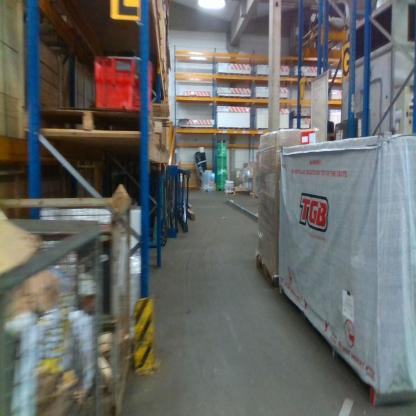pallet: (39, 105, 156, 143), (256, 252, 280, 290), (150, 102, 169, 120), (217, 187, 225, 192)
stillage: (2, 193, 134, 415), (2, 213, 106, 413)
